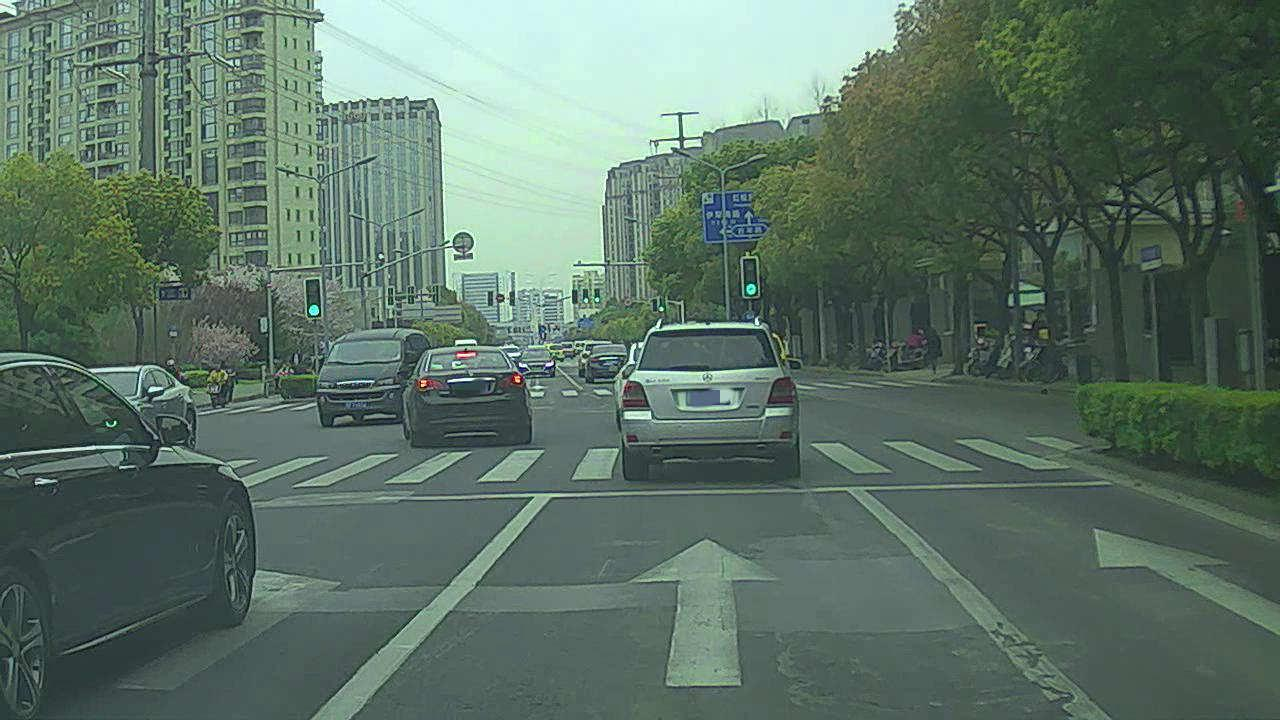traffic_light: (741, 255, 764, 296), (302, 279, 324, 318), (581, 288, 590, 305), (571, 290, 579, 306), (593, 288, 600, 303)
